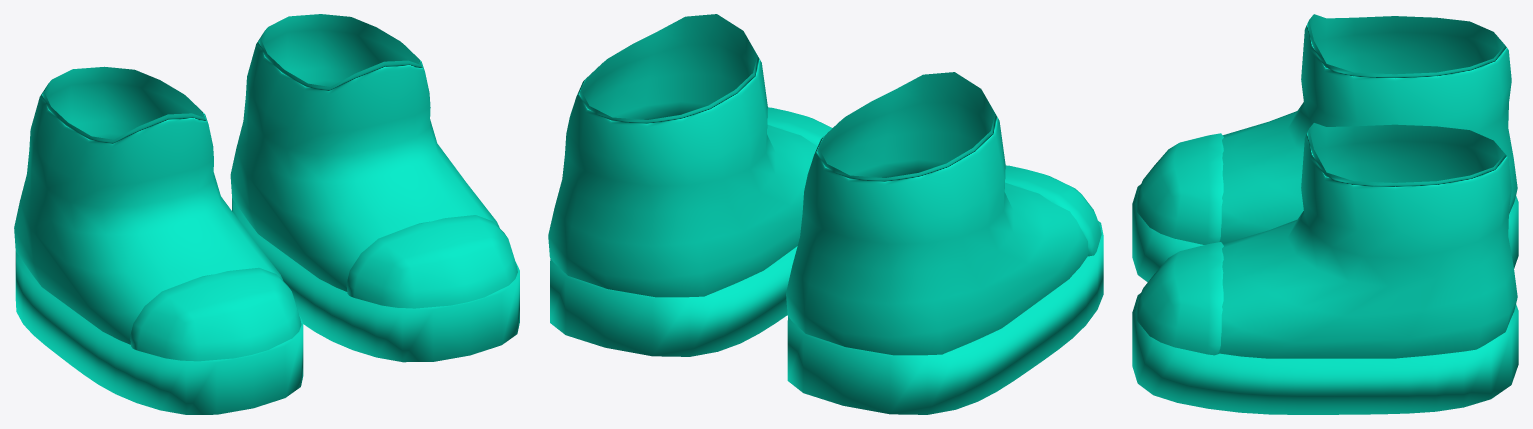
The model's file is Shoes.fbx.
The picture shows the model from 3 angles, left to right: view 1: azimuth 30°, elevation 25°; view 2: azimuth 150°, elevation 25°; view 3: azimuth 270°, elevation 25°; orthographic projection. The views are drawn at different scales.
Visible parts, largest first — view 1: Shoes1; view 2: Shoes1; view 3: Shoes1.
Part boxes in pixels (x1=…): Shoes1: x1=14, y1=14, x2=519, y2=414; Shoes1: x1=548, y1=14, x2=1103, y2=414; Shoes1: x1=1132, y1=14, x2=1518, y2=414.
Bounding box in the file's own units: 0.2392 × 0.1358 × 0.1969.
